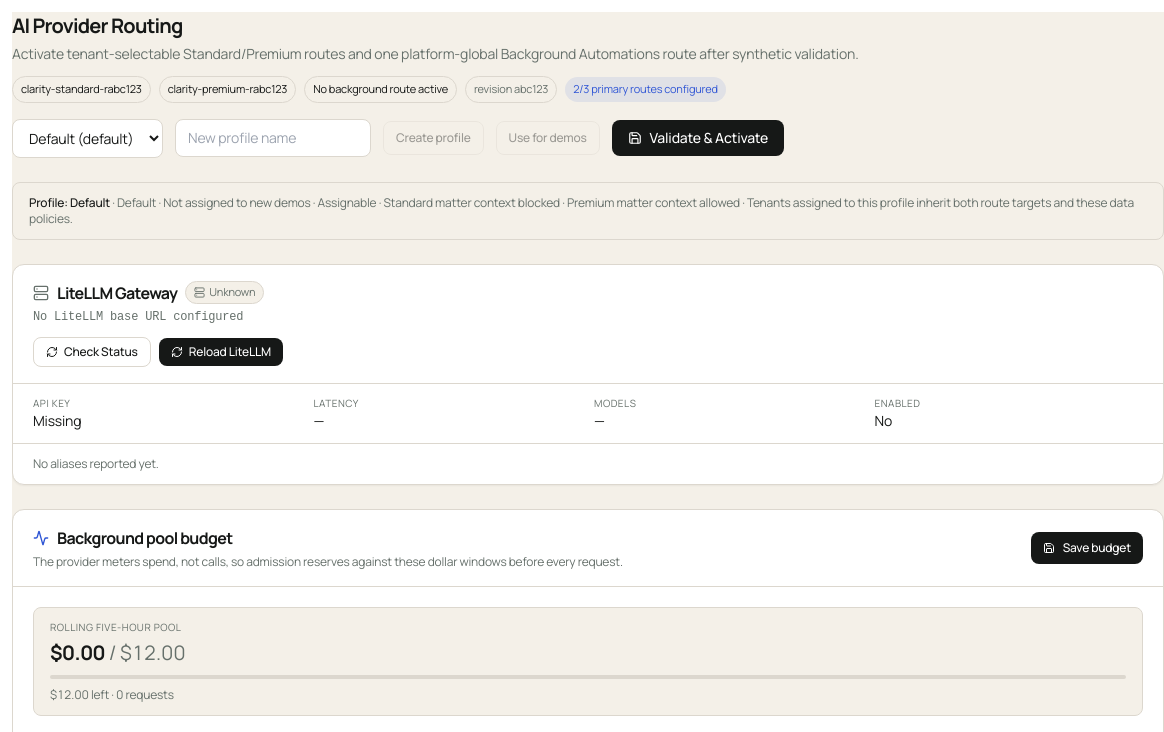
it: platform AI routing › shows the confidential-data policy message from a structured rejection
This screenshot has width=1164, height=732.
Click the button "Validate & Activate": (698, 138) [612,120,784,156]
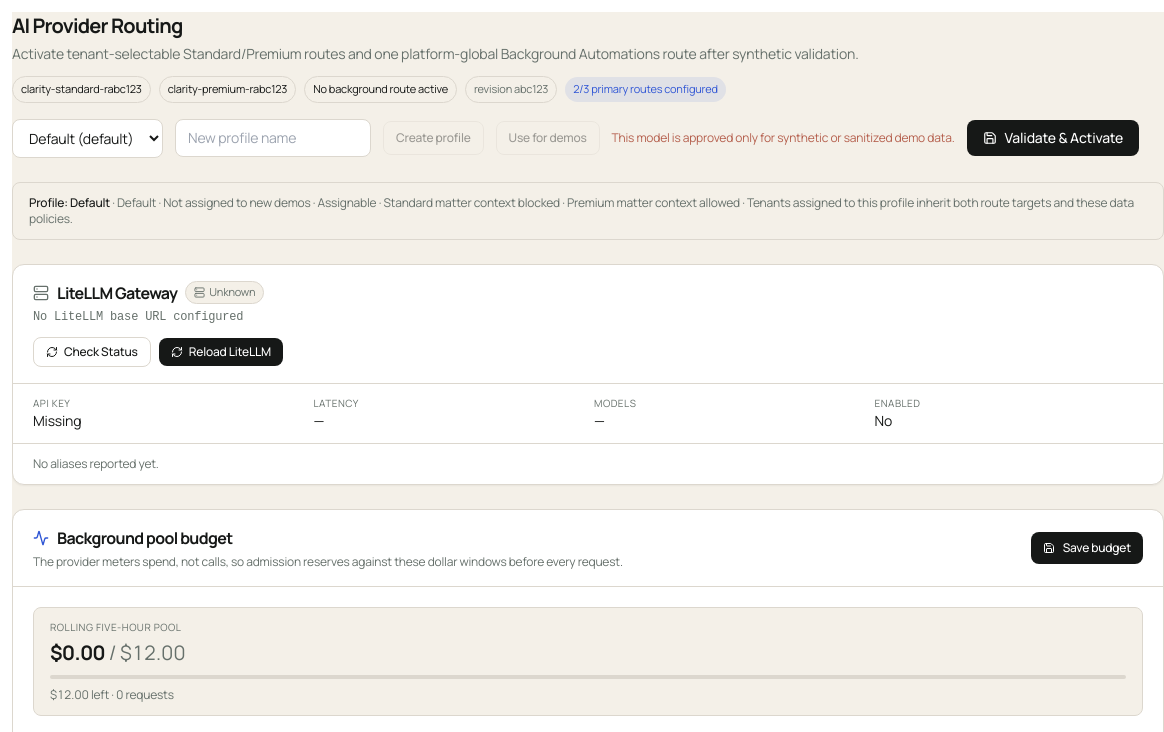
Expected: the text "This model is approved only for synthetic or sanitized demo data." is shown, [612,130,955,146]
